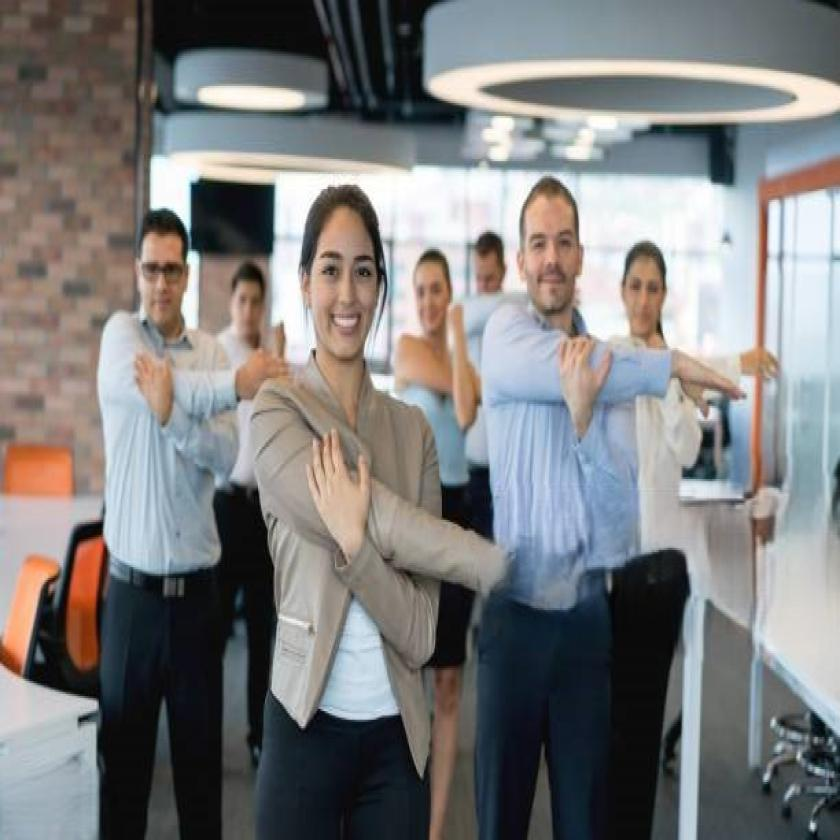Sin_casco: (300, 178, 386, 370), (516, 170, 581, 336), (132, 198, 197, 333), (622, 236, 667, 352), (409, 247, 455, 356), (224, 261, 266, 345), (469, 227, 505, 318)
